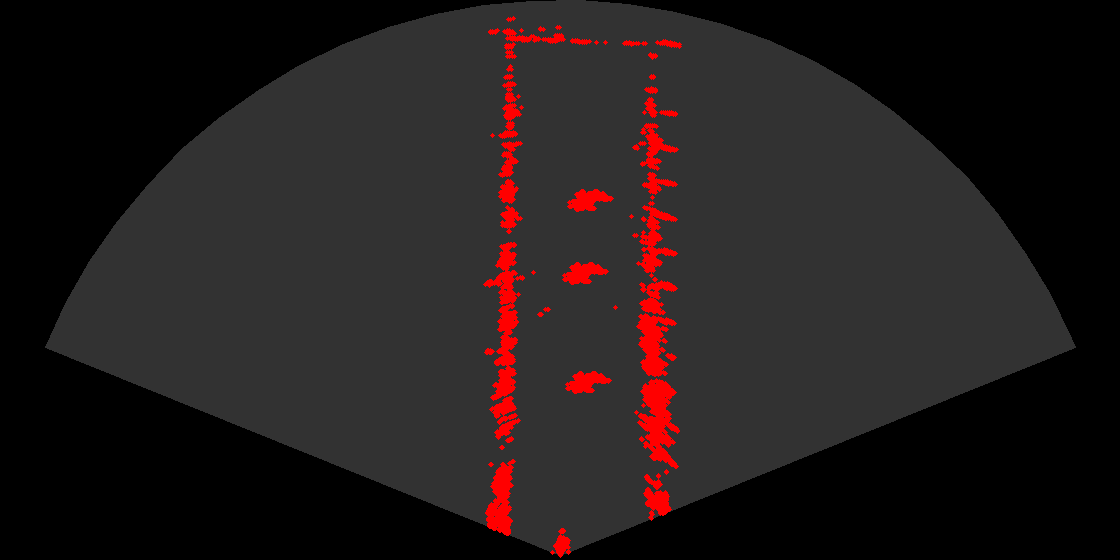AUV: (559, 369, 615, 401), (556, 260, 612, 292), (561, 187, 617, 219)
